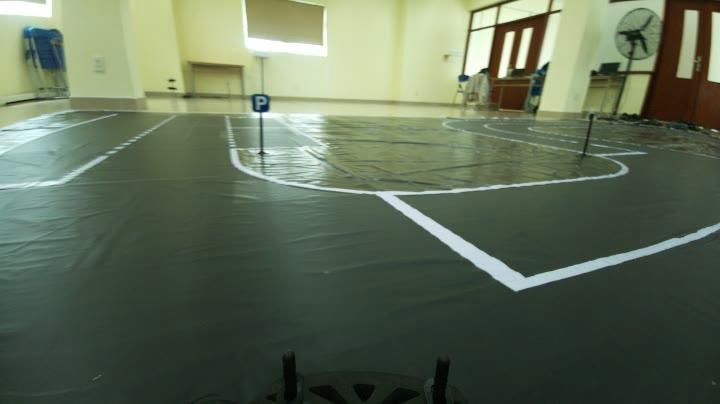parking: (248, 90, 275, 123)
